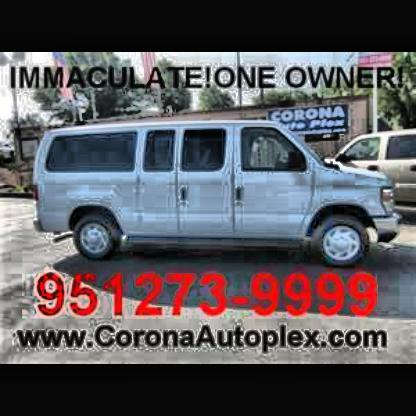Ford E-Series Wagon Van 2012: (24, 111, 412, 271)
